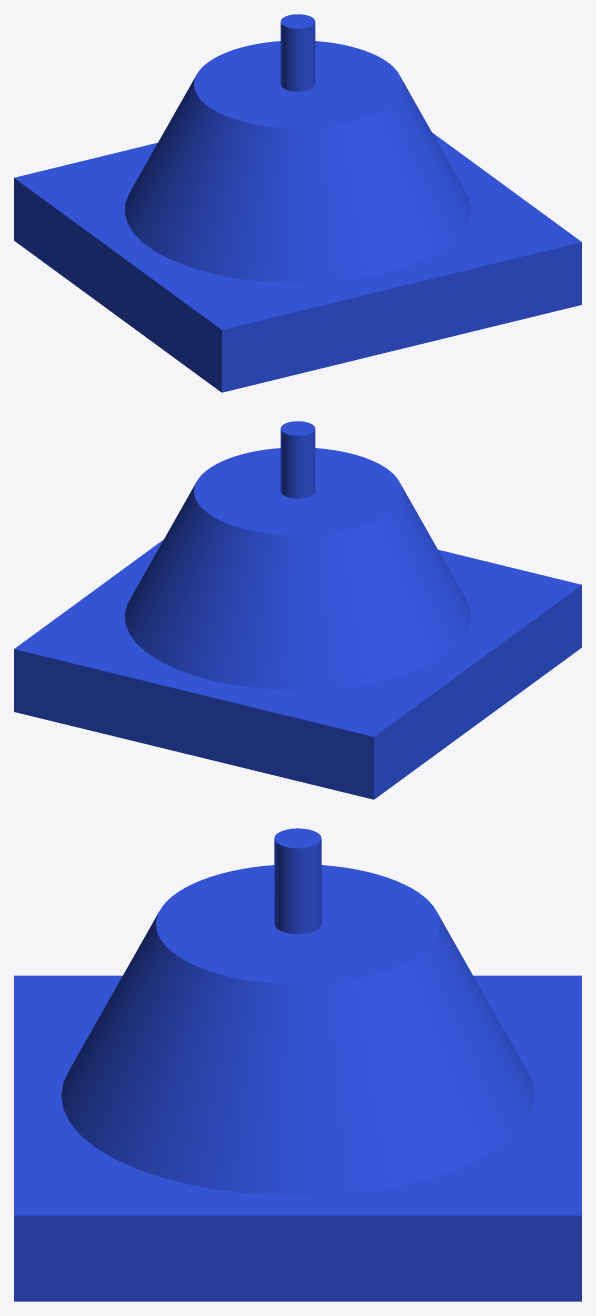
3 views of the same model, one above another, from view 1: azimuth 30°, elevation 25°; view 2: azimuth 150°, elevation 25°; view 3: azimuth 270°, elevation 25° (orthographic). The views are drawn at different scales.
Visible parts, largest first — view 1: color; view 2: color; view 3: color.
Boxes of the visible parts, bbox=[...] form: color: bbox=[14, 14, 581, 392]; color: bbox=[14, 421, 581, 799]; color: bbox=[14, 828, 581, 1301].
Size of the model in its own units: 15.24 by 10.16 by 15.24.
